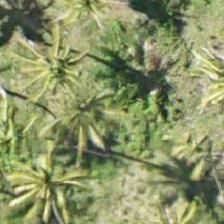coconut_tree: (38, 76, 128, 166), (9, 26, 99, 116), (0, 139, 90, 223), (0, 94, 49, 184), (45, 0, 135, 47)
